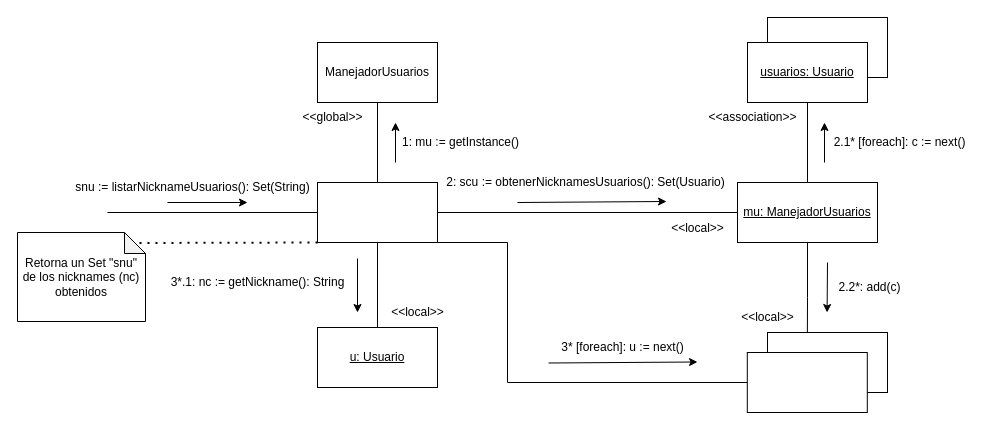
Image size: 992x430. Some labels were removed from this diagram. The shapes that lost their labels are listed below. From the top down, each one's centre as x and y in pixels, then its label:
At point 377,212: ": CtrlComentario".
At point 806,382: "scu: Usuario".
